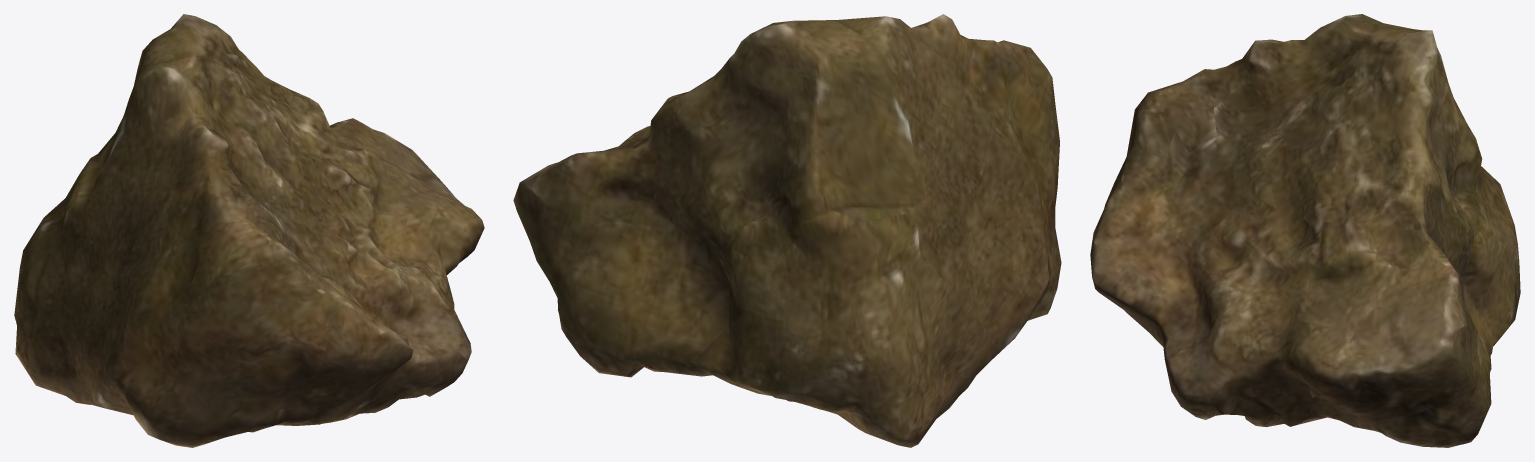
Rendered from SM_RockMoss_A04.gltf.
3 renders of one model, left to right at view 1: azimuth 30°, elevation 25°; view 2: azimuth 150°, elevation 25°; view 3: azimuth 270°, elevation 25°, orthographic. The views are drawn at different scales.
Visible parts, largest first — view 1: SM_RockMoss_A04; view 2: SM_RockMoss_A04; view 3: SM_RockMoss_A04.
Part boxes in pixels (box(x1,y1,x2,y2)): SM_RockMoss_A04: box(14, 14, 484, 447); SM_RockMoss_A04: box(513, 14, 1061, 447); SM_RockMoss_A04: box(1090, 14, 1520, 447).
Size of the model in its own units: 2.13 by 1.77 by 1.97.
1 material, 1 textured.
